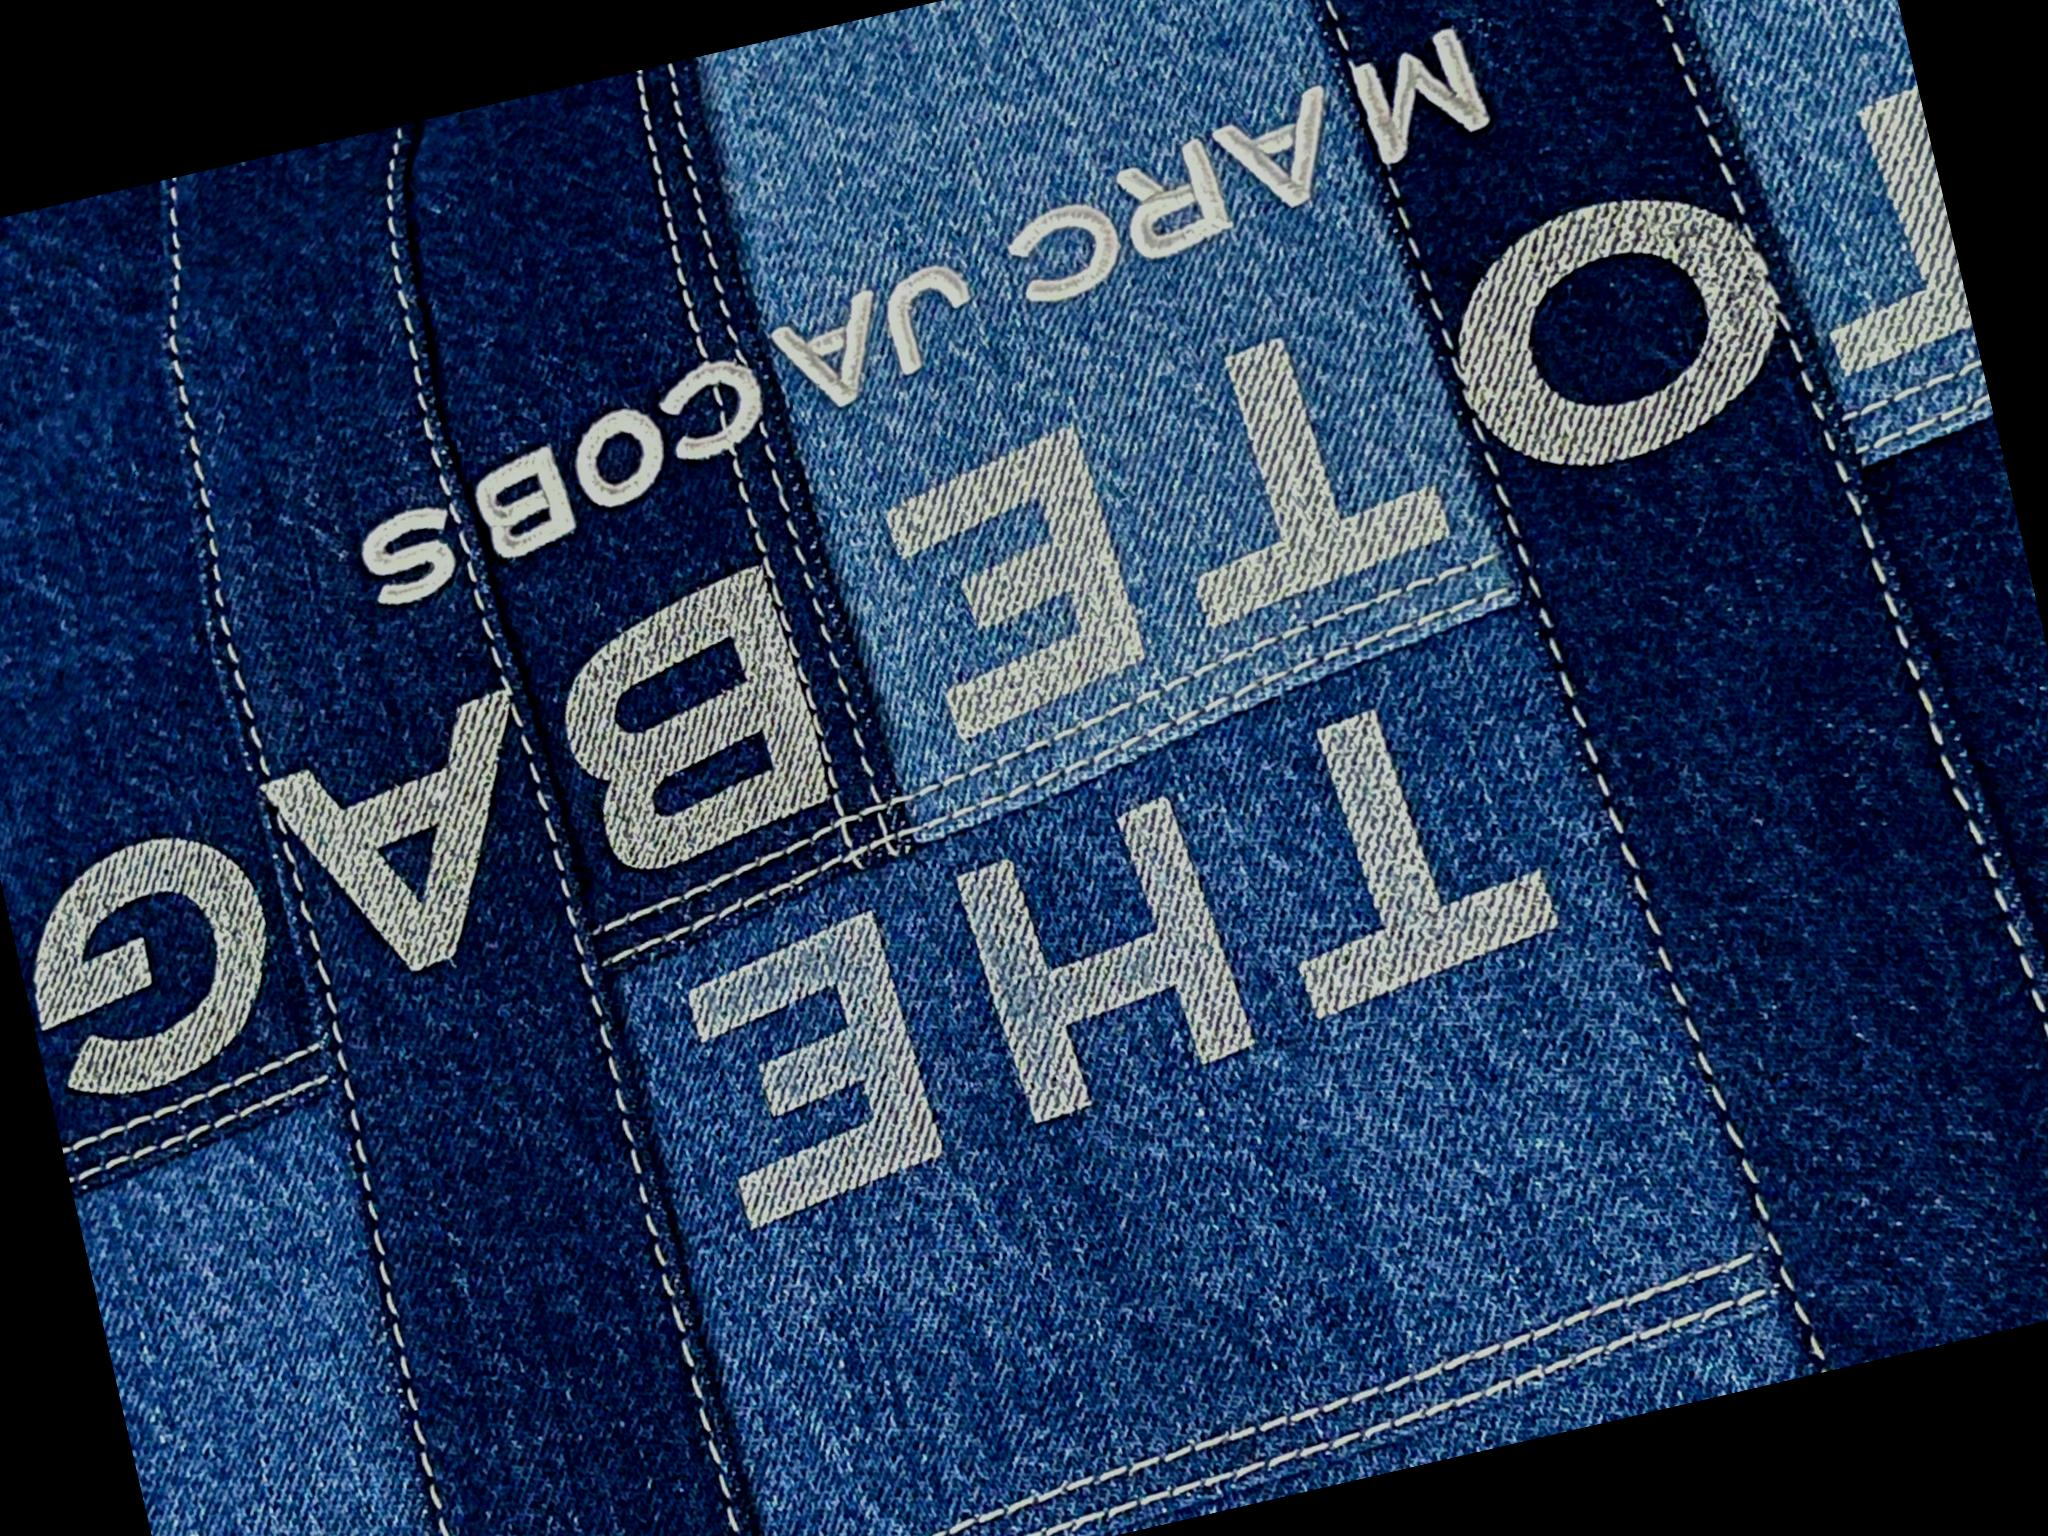MARC-JACOBS: (298, 21, 1540, 613)
